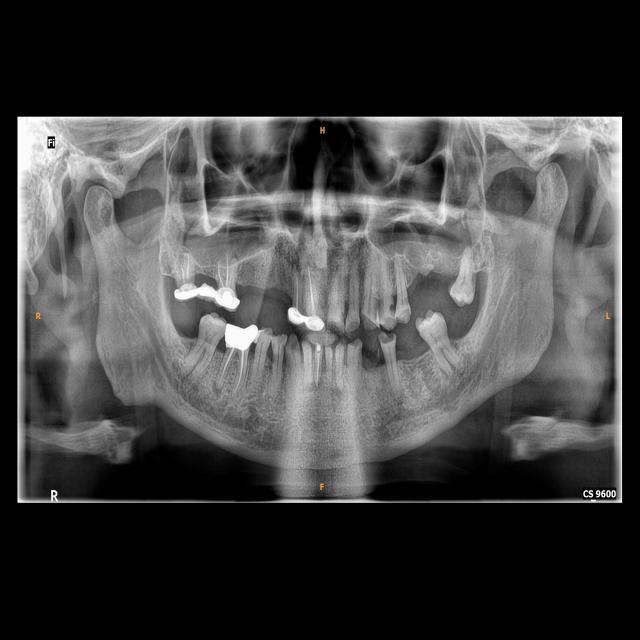dentin-curugu: (380, 332, 397, 344), (348, 316, 359, 332), (388, 300, 397, 318)
kanal-tedavisi: (220, 349, 246, 389), (216, 250, 238, 286), (305, 267, 319, 313), (175, 254, 192, 284), (289, 272, 303, 308)
kaplama: (224, 321, 257, 350), (215, 286, 242, 309), (304, 314, 326, 334), (174, 283, 201, 299), (288, 308, 306, 326)
kopru: (195, 277, 218, 305)
